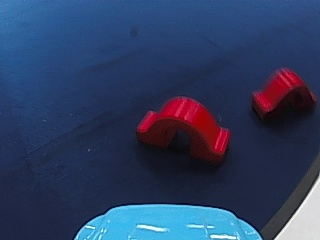bridge: (134, 90, 231, 162), (247, 66, 315, 127)
